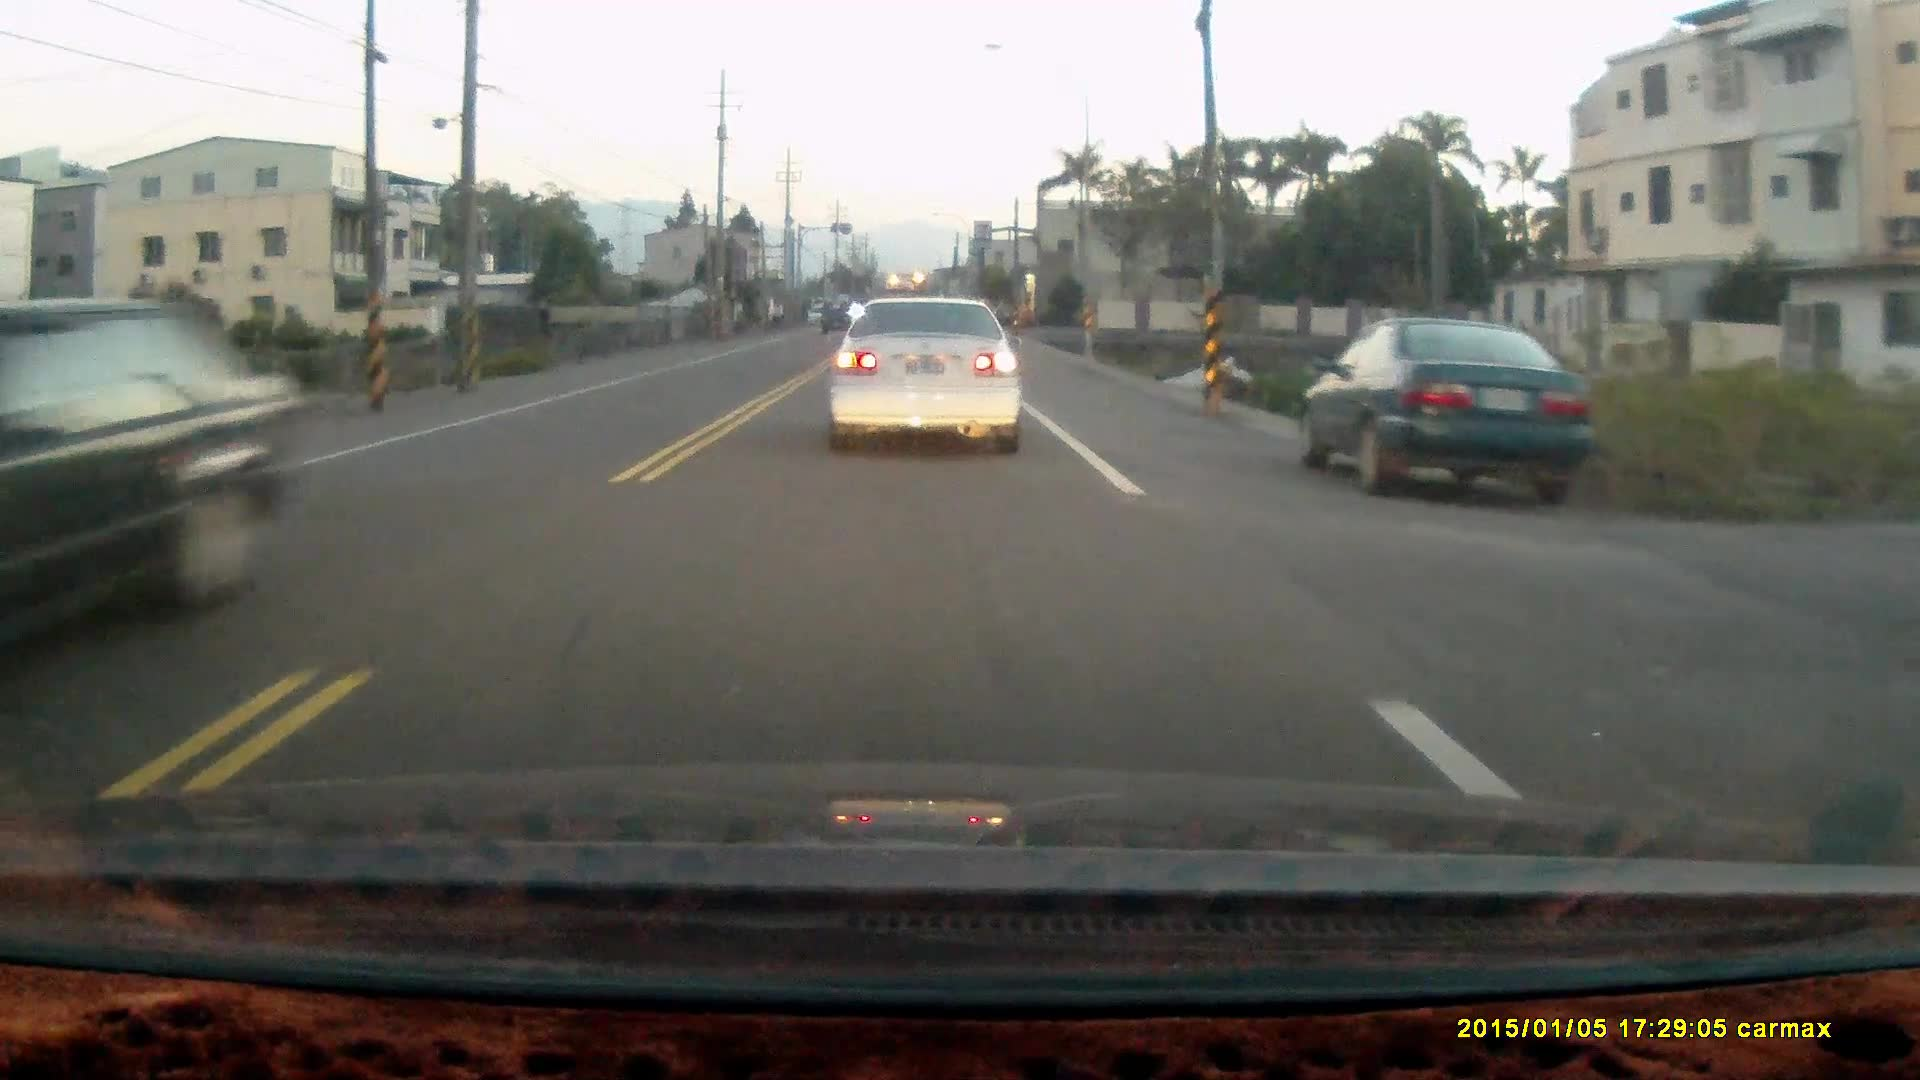vehicle: (1, 297, 303, 666), (1290, 319, 1588, 496), (827, 286, 1023, 440), (820, 301, 855, 336)
